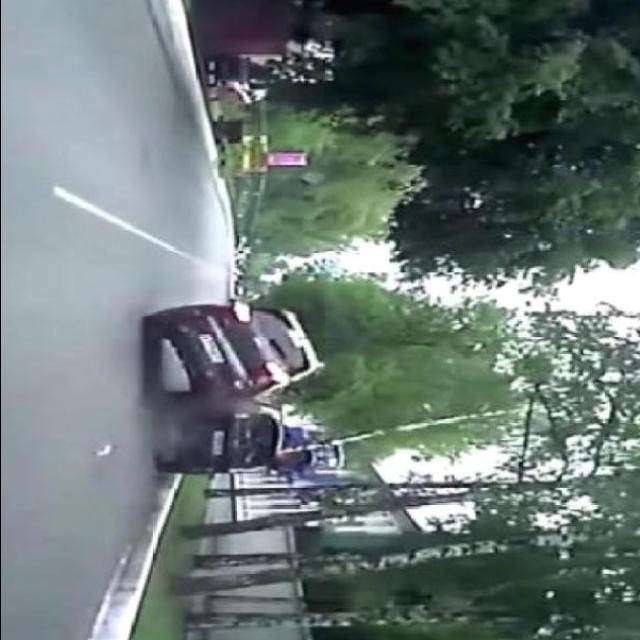accident: (143, 293, 329, 491)
